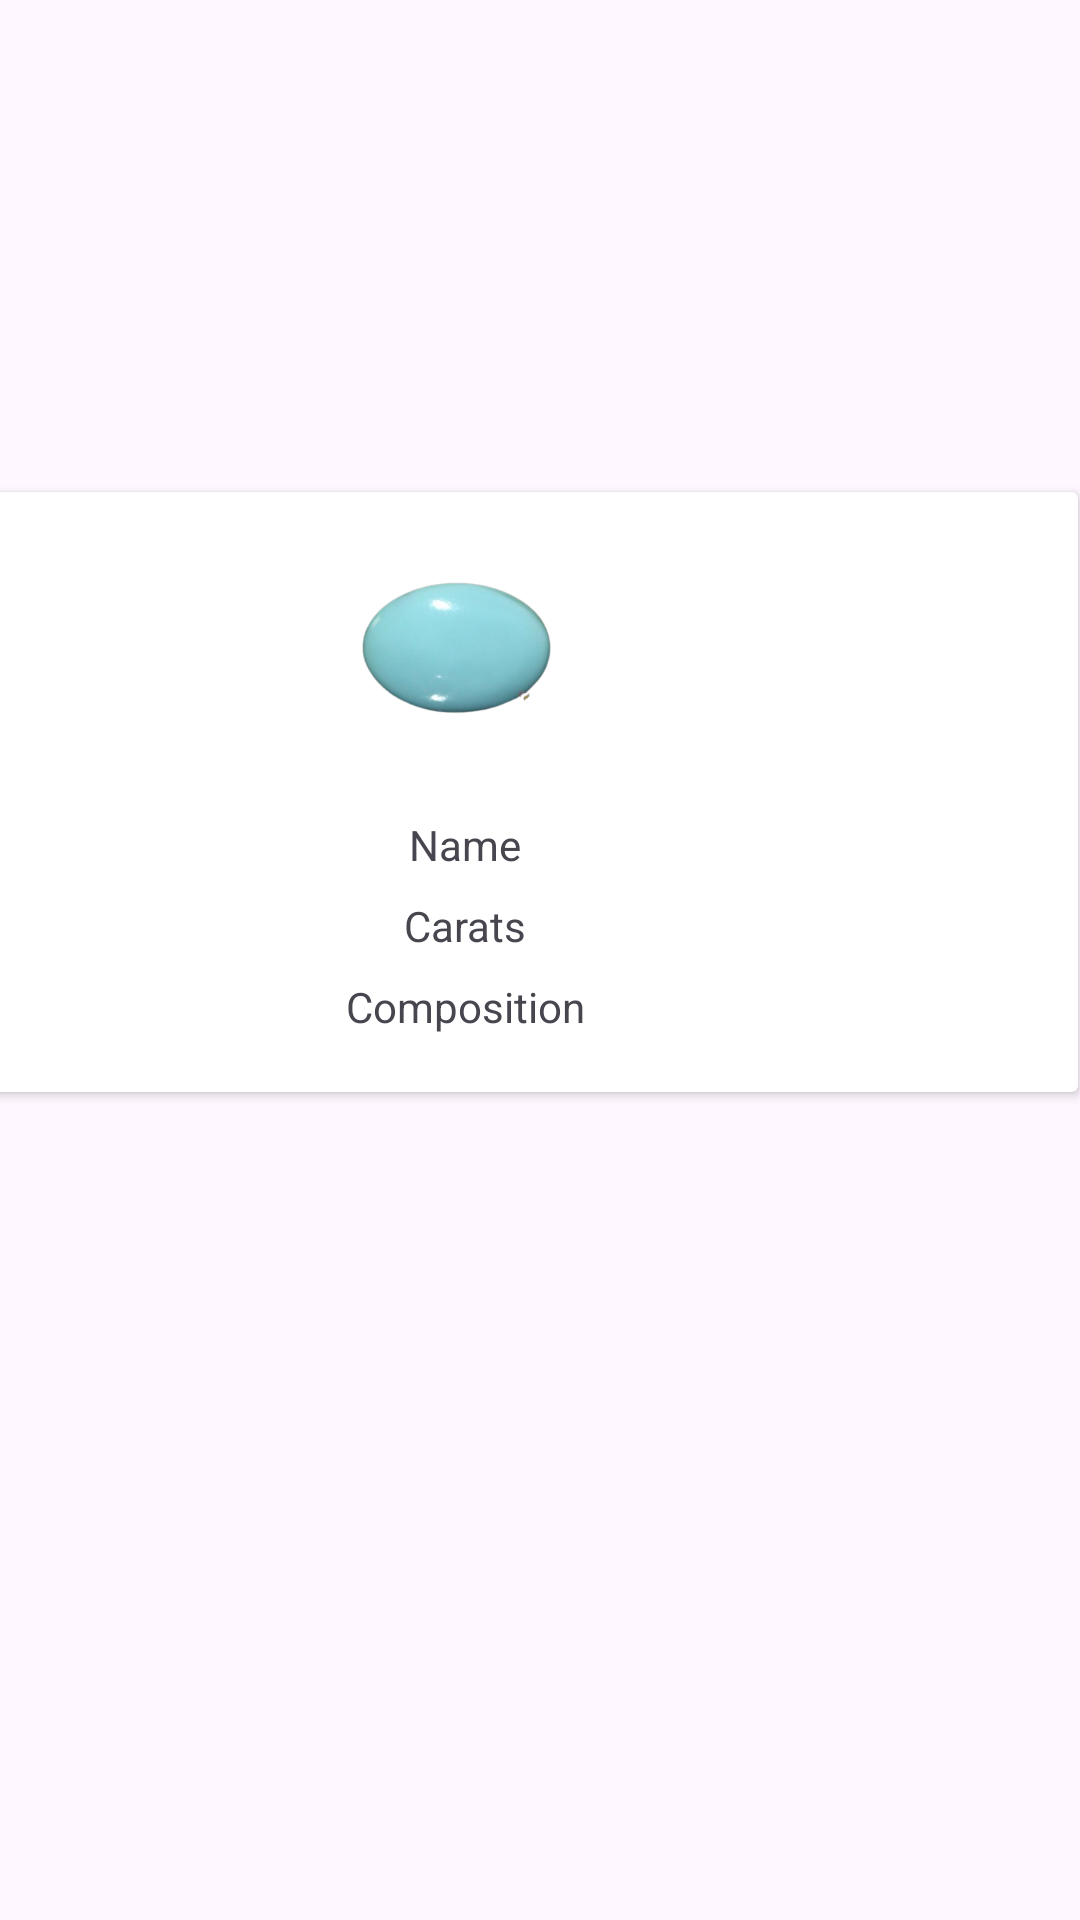

Icons on this 1080 × 1920 Android screen, each with the point to tap as (x,y):
firoza: (456,648)
